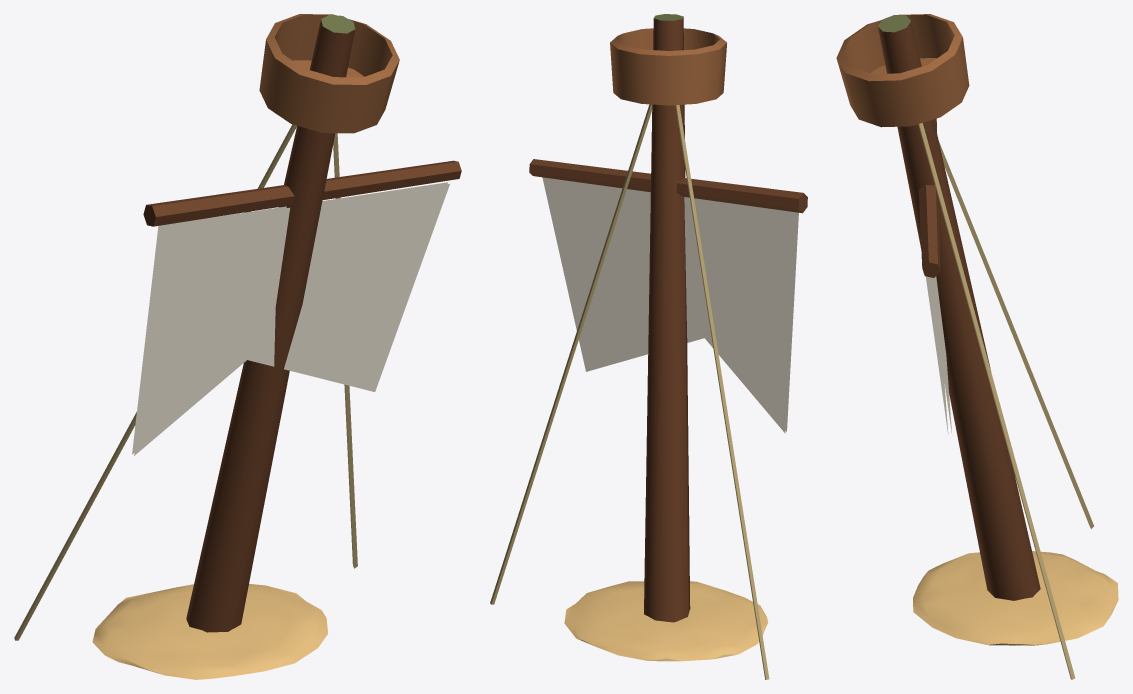
The model's file is BrokenMast.fbx.
The picture shows the model from 3 angles, left to right: view 1: azimuth 30°, elevation 25°; view 2: azimuth 150°, elevation 25°; view 3: azimuth 270°, elevation 25°; orthographic projection. The views are drawn at different scales.
Visible parts, largest first — view 1: BrokenMast; view 2: BrokenMast; view 3: BrokenMast.
Boxes of the visible parts, left/top/right/bottom form: BrokenMast: left=14, top=14, right=461, bottom=679; BrokenMast: left=490, top=14, right=807, bottom=679; BrokenMast: left=836, top=14, right=1118, bottom=679.
Bounding box in the file's own units: 2.07 × 3.57 × 1.49.
Materials: 1 (1 with a texture image).
